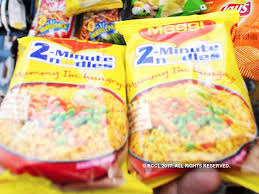maggi: (28, 37, 247, 159)
